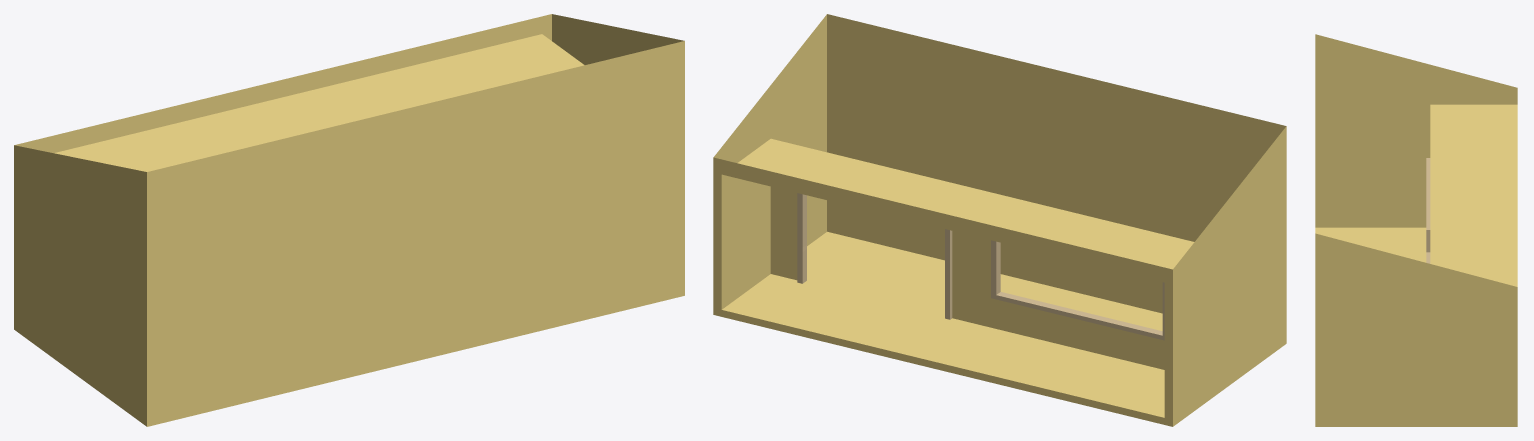
Rendered from Bld_R_med_L1_B.fbx.
3 renders of one model, left to right at view 1: azimuth 30°, elevation 25°; view 2: azimuth 150°, elevation 25°; view 3: azimuth 270°, elevation 25°, orthographic. The views are drawn at different scales.
Visible parts, largest first — view 1: Bld_R_med_L1_B_LOD0; view 2: Bld_R_med_L1_B_LOD0; view 3: Bld_R_med_L1_B_LOD0.
Boxes of the visible parts, left/top/right/bottom form: Bld_R_med_L1_B_LOD0: left=14, top=14, right=684, bottom=426; Bld_R_med_L1_B_LOD0: left=713, top=14, right=1286, bottom=426; Bld_R_med_L1_B_LOD0: left=1315, top=34, right=1517, bottom=426.
Size of what is drawn, in the model's own units: 1400 by 856 by 606.
1 material, 1 textured.
